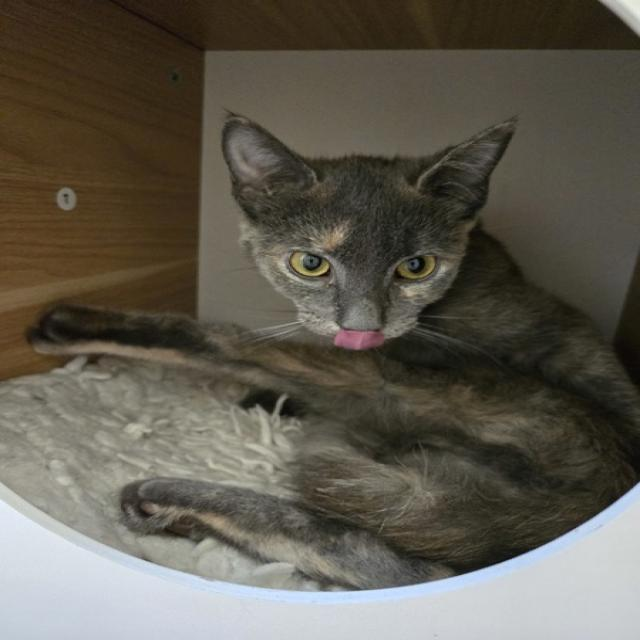manx_cat: (209, 111, 528, 361)
